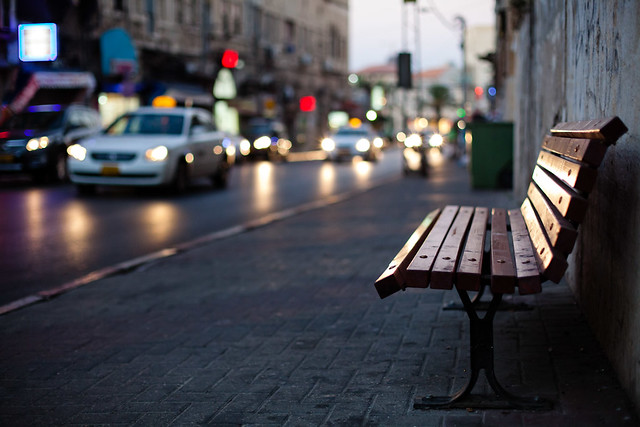car: (66, 109, 235, 193), (322, 125, 384, 162)
